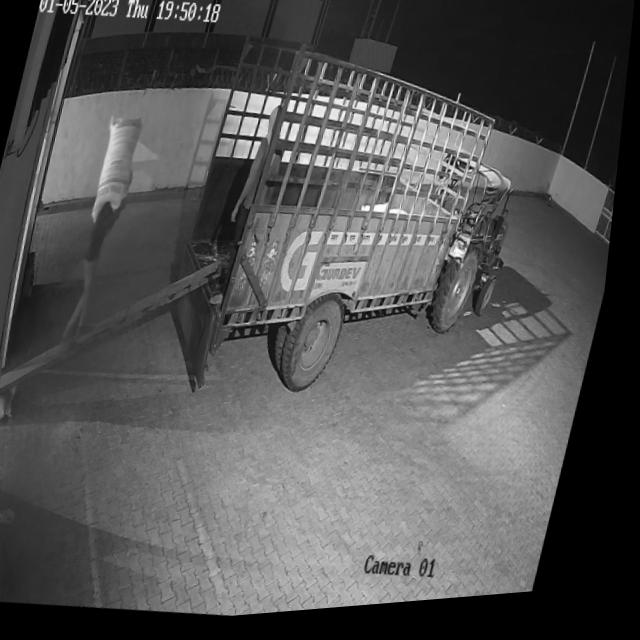sack: (92, 117, 149, 229)
